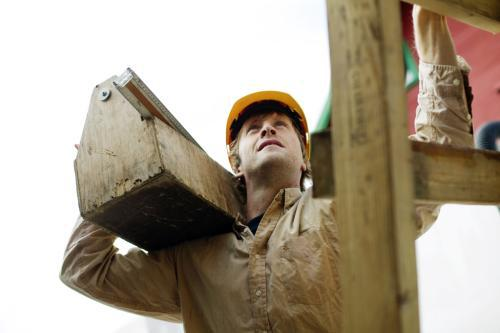helmet: (225, 91, 312, 186)
